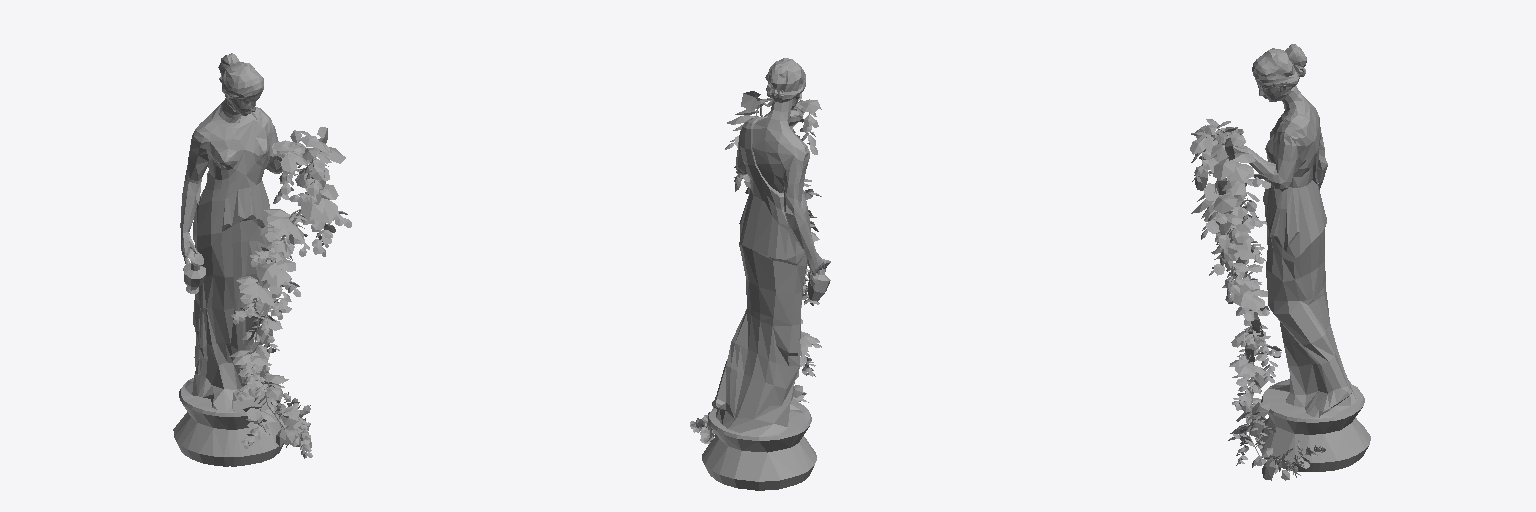
Rendered from statue.obj.
3 views of the same model, side by side, from view 1: azimuth 30°, elevation 25°; view 2: azimuth 150°, elevation 25°; view 3: azimuth 270°, elevation 25° (orthographic).
Parts seen in each view (by area): view 1: unnamed_object1; view 2: unnamed_object1; view 3: unnamed_object1.
Boxes of the visible parts, x1=… form: unnamed_object1: x1=173, y1=53, x2=351, y2=466; unnamed_object1: x1=690, y1=58, x2=830, y2=490; unnamed_object1: x1=1190, y1=44, x2=1370, y2=480.
Bounding box in the file's own units: 0.3465 × 1 × 0.4115.